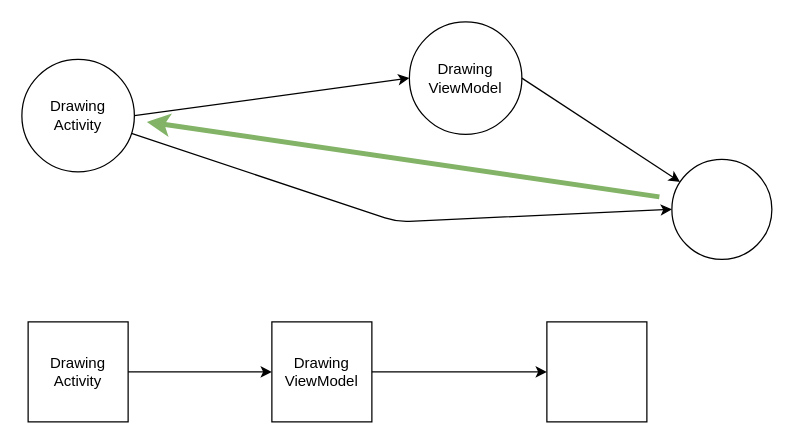
This 794x444 diagram has some shape labels left out. The shapes that lost their labels are listed below. From the top down, each one's centre as x and y in pixels, then its label:
pixel 721 208: LiveData
pixel 596 371: Timer
